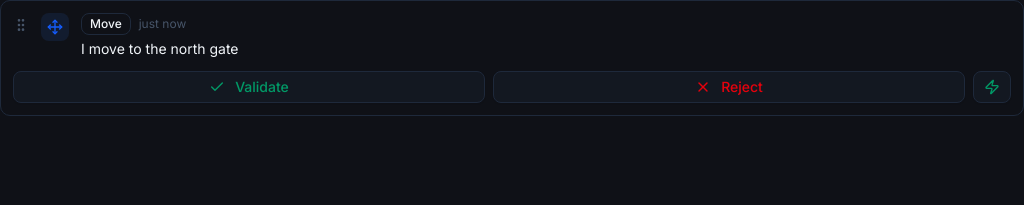
Test: ActionCard › GM validation controls › returns to default state on Cancel
This screenshot has width=1024, height=205.
Click the button "Validate".
click(249, 87)  # box top-left (13, 71), bottom-right (485, 103)
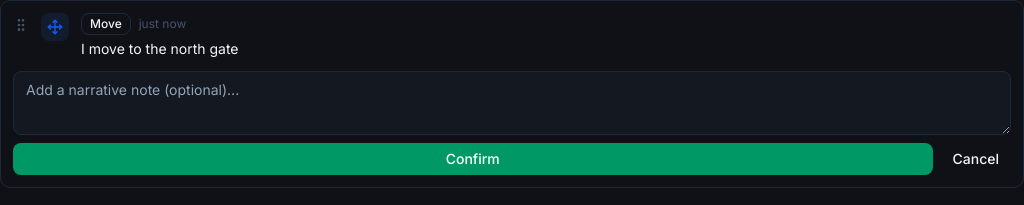
Result: the button "Confirm" is shown at top-left (13, 143), bottom-right (932, 175)
Click the button "Cancel".
click(976, 159)  # box top-left (940, 143), bottom-right (1011, 175)
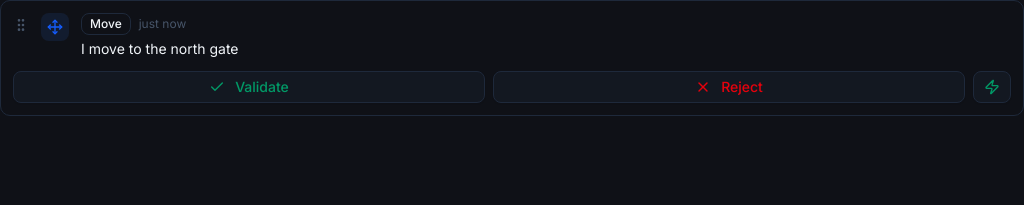
Result: the button "Validate" is shown at top-left (13, 71), bottom-right (485, 103)
